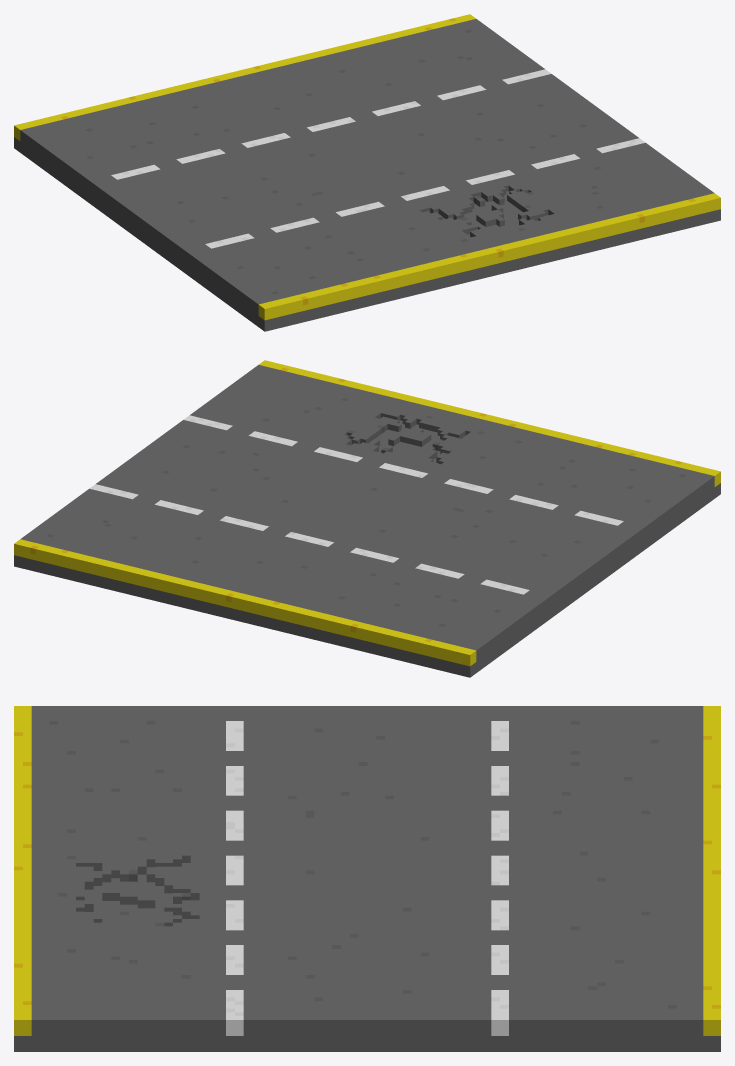
File: Calle3.obj
3 views of the same model, one above another, from view 1: azimuth 30°, elevation 25°; view 2: azimuth 150°, elevation 25°; view 3: azimuth 270°, elevation 25° (orthographic). The views are drawn at different scales.
Size of the model in its own units: 8.4 by 0.4 by 8.
1 material, 1 textured.
